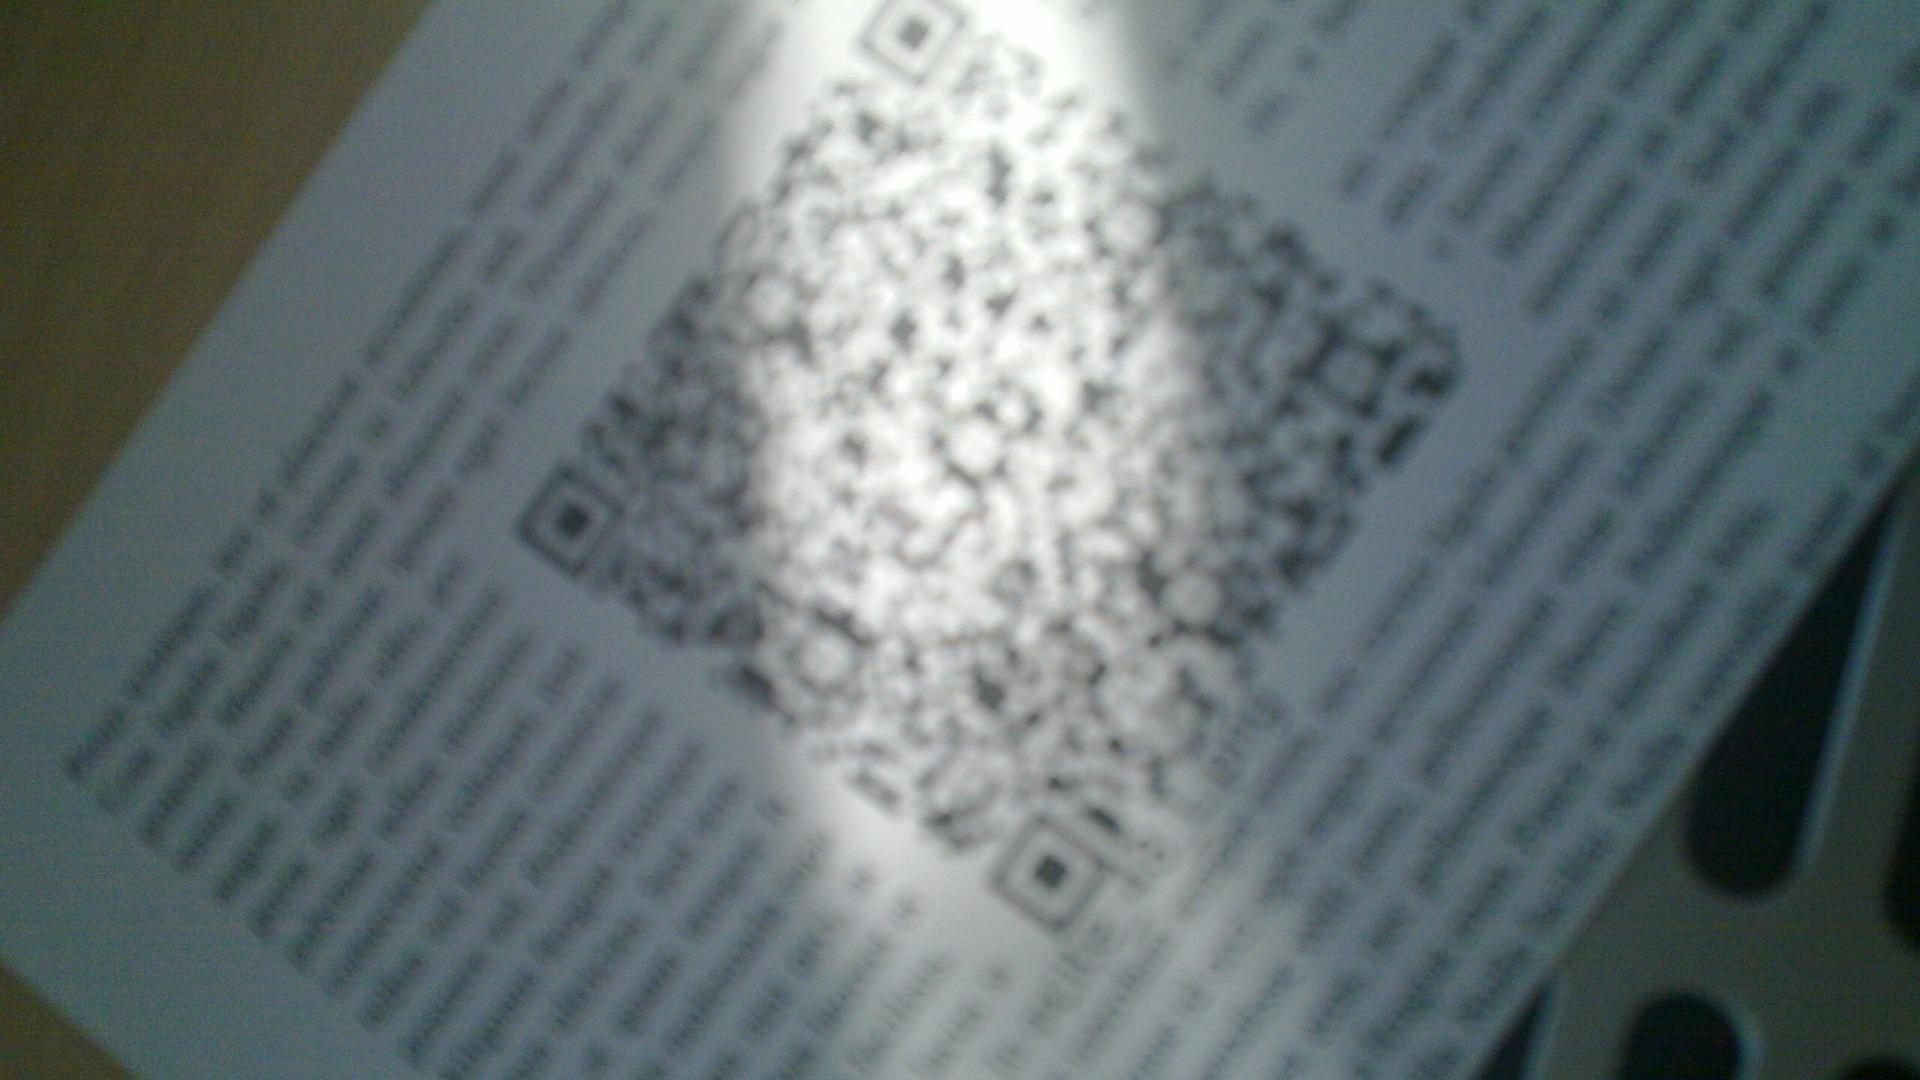Finder pattern: (986, 812, 1102, 924), (513, 468, 625, 582), (858, 0, 975, 83)
